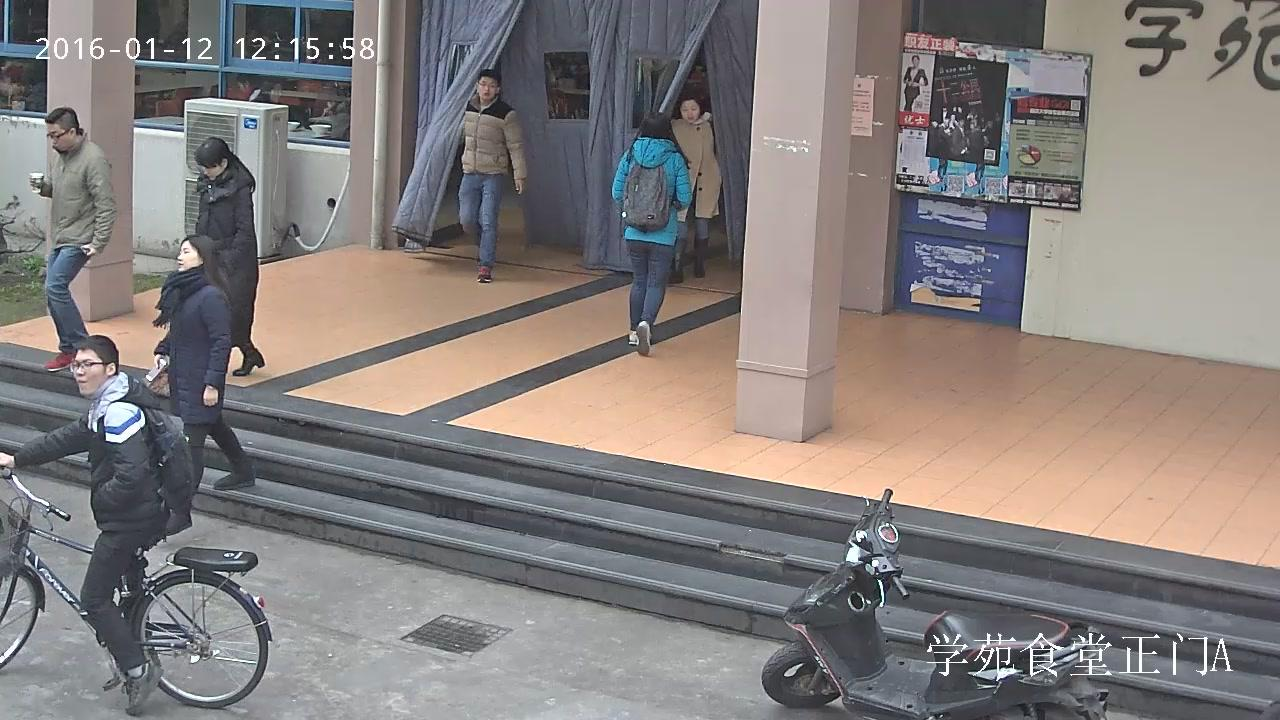person: (0, 333, 273, 719), (0, 335, 193, 717), (144, 234, 257, 491), (29, 107, 115, 371), (610, 111, 693, 356), (194, 137, 264, 377), (458, 68, 527, 282), (671, 97, 721, 283), (904, 54, 927, 111)
